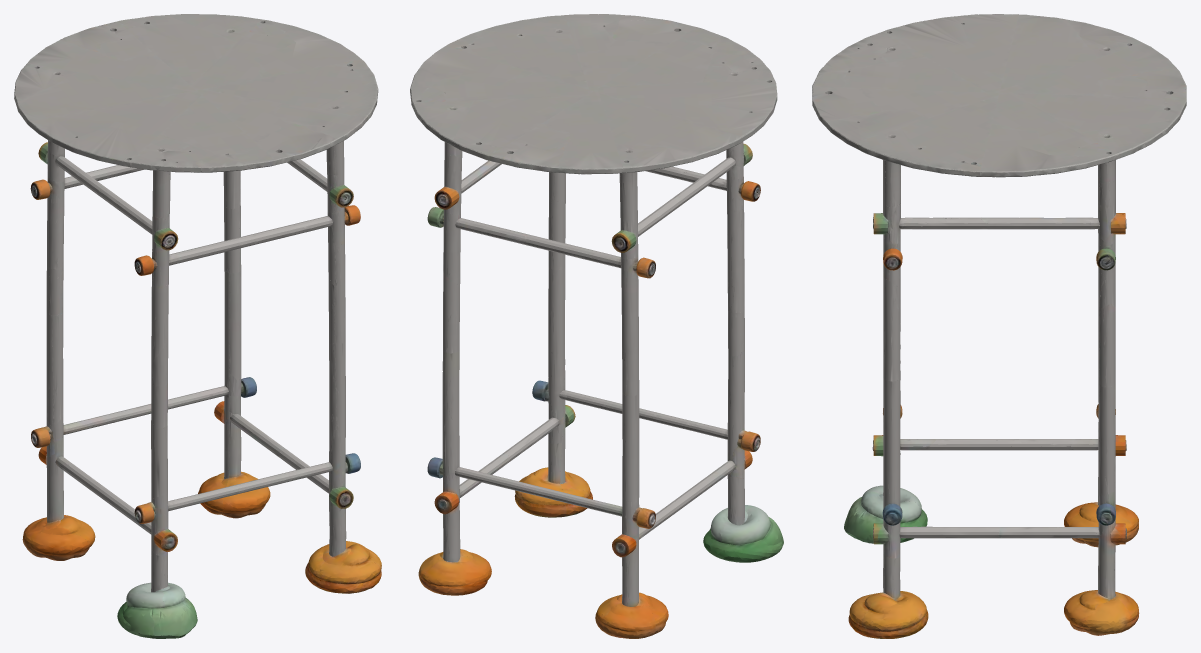
The model's file is 05_1_js_blob_table-opt-v20.glb.
The picture shows the model from 3 angles, left to right: view 1: azimuth 30°, elevation 25°; view 2: azimuth 150°, elevation 25°; view 3: azimuth 270°, elevation 25°; orthographic projection. The views are drawn at different scales.
Visible parts, largest first — view 1: tripo_node_d62f2731-f71b-4fc6-a5e3-091e33b99adc.002; view 2: tripo_node_d62f2731-f71b-4fc6-a5e3-091e33b99adc.002; view 3: tripo_node_d62f2731-f71b-4fc6-a5e3-091e33b99adc.002.
Part boxes in pixels (left/top/right/bottom): tripo_node_d62f2731-f71b-4fc6-a5e3-091e33b99adc.002: left=14, top=14, right=381, bottom=638; tripo_node_d62f2731-f71b-4fc6-a5e3-091e33b99adc.002: left=410, top=14, right=783, bottom=638; tripo_node_d62f2731-f71b-4fc6-a5e3-091e33b99adc.002: left=812, top=14, right=1186, bottom=638.
Bounding box in the file's own units: 0.32 × 0.4601 × 0.32.
1 material, 1 textured.
